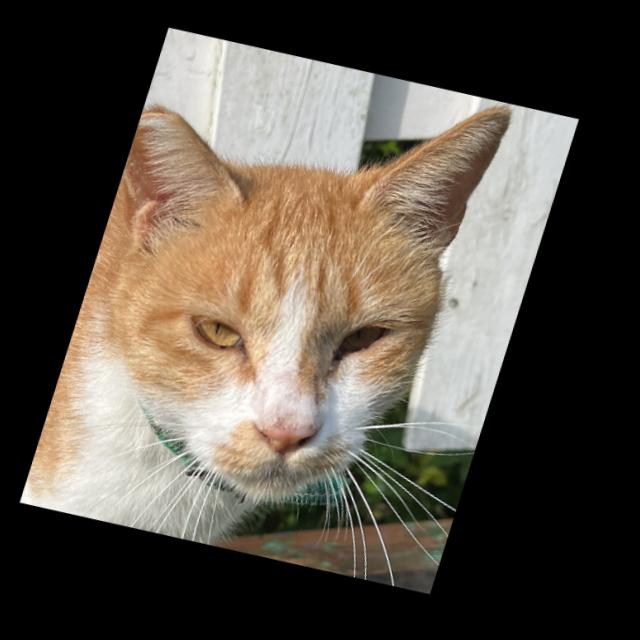animals: (31, 19, 547, 565)
